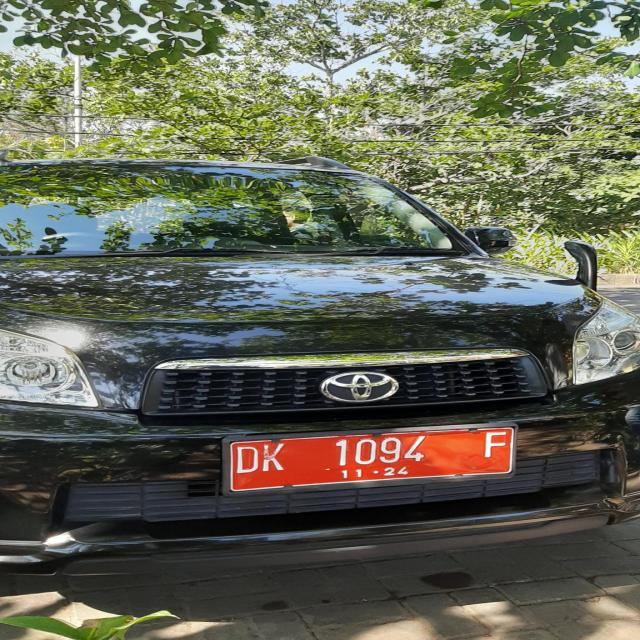license-plate: (224, 426, 516, 492)
